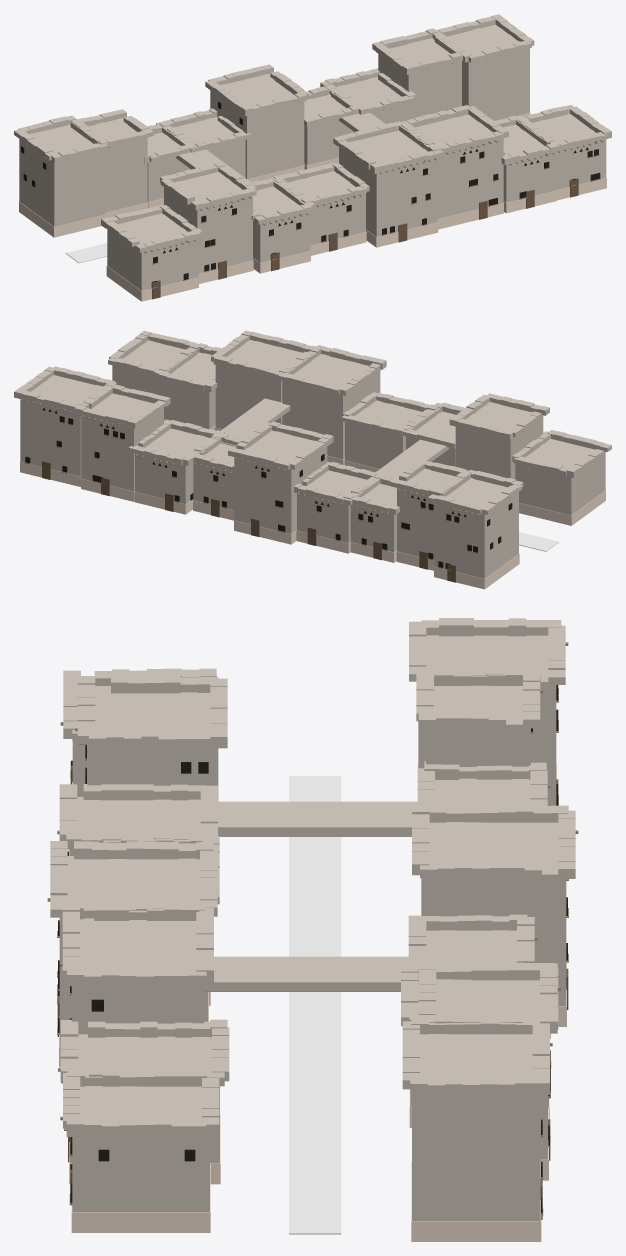
Rendered from SM_AlUlaOldTown.fbx.
3 views of the same model, one above another, from view 1: azimuth 30°, elevation 25°; view 2: azimuth 150°, elevation 25°; view 3: azimuth 270°, elevation 25° (orthographic). The views are drawn at different scales.
Visible parts, largest first — view 1: SM_AlUlaOldTown; view 2: SM_AlUlaOldTown; view 3: SM_AlUlaOldTown.
Boxes of the visible parts, box(x1,y1,x2,y2) form: SM_AlUlaOldTown: box(14, 14, 611, 301); SM_AlUlaOldTown: box(14, 330, 611, 589); SM_AlUlaOldTown: box(47, 618, 578, 1241).
Bounding box in the file's own units: 6350 × 1030 × 3038.
